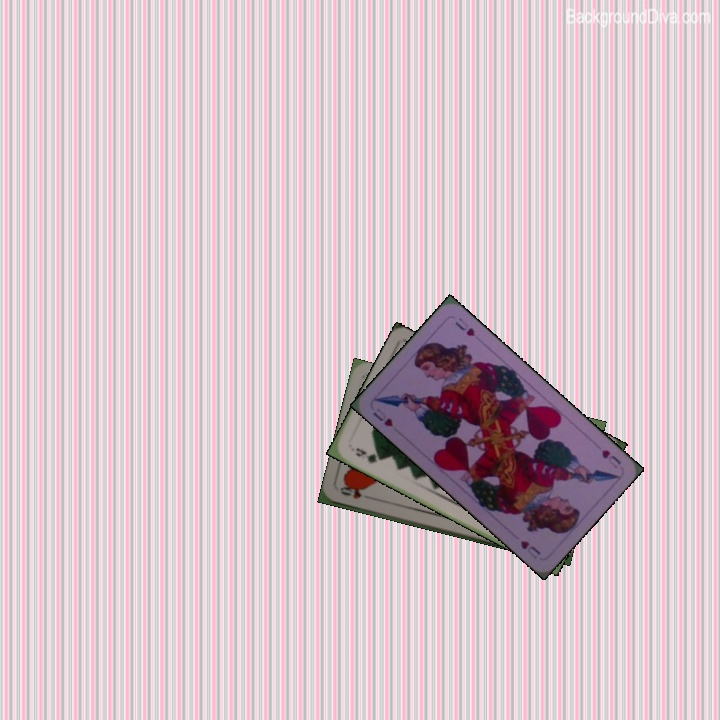G9: (351, 443, 384, 466)
HO: (336, 483, 364, 501)
HU: (597, 445, 624, 471), (369, 404, 396, 429)
